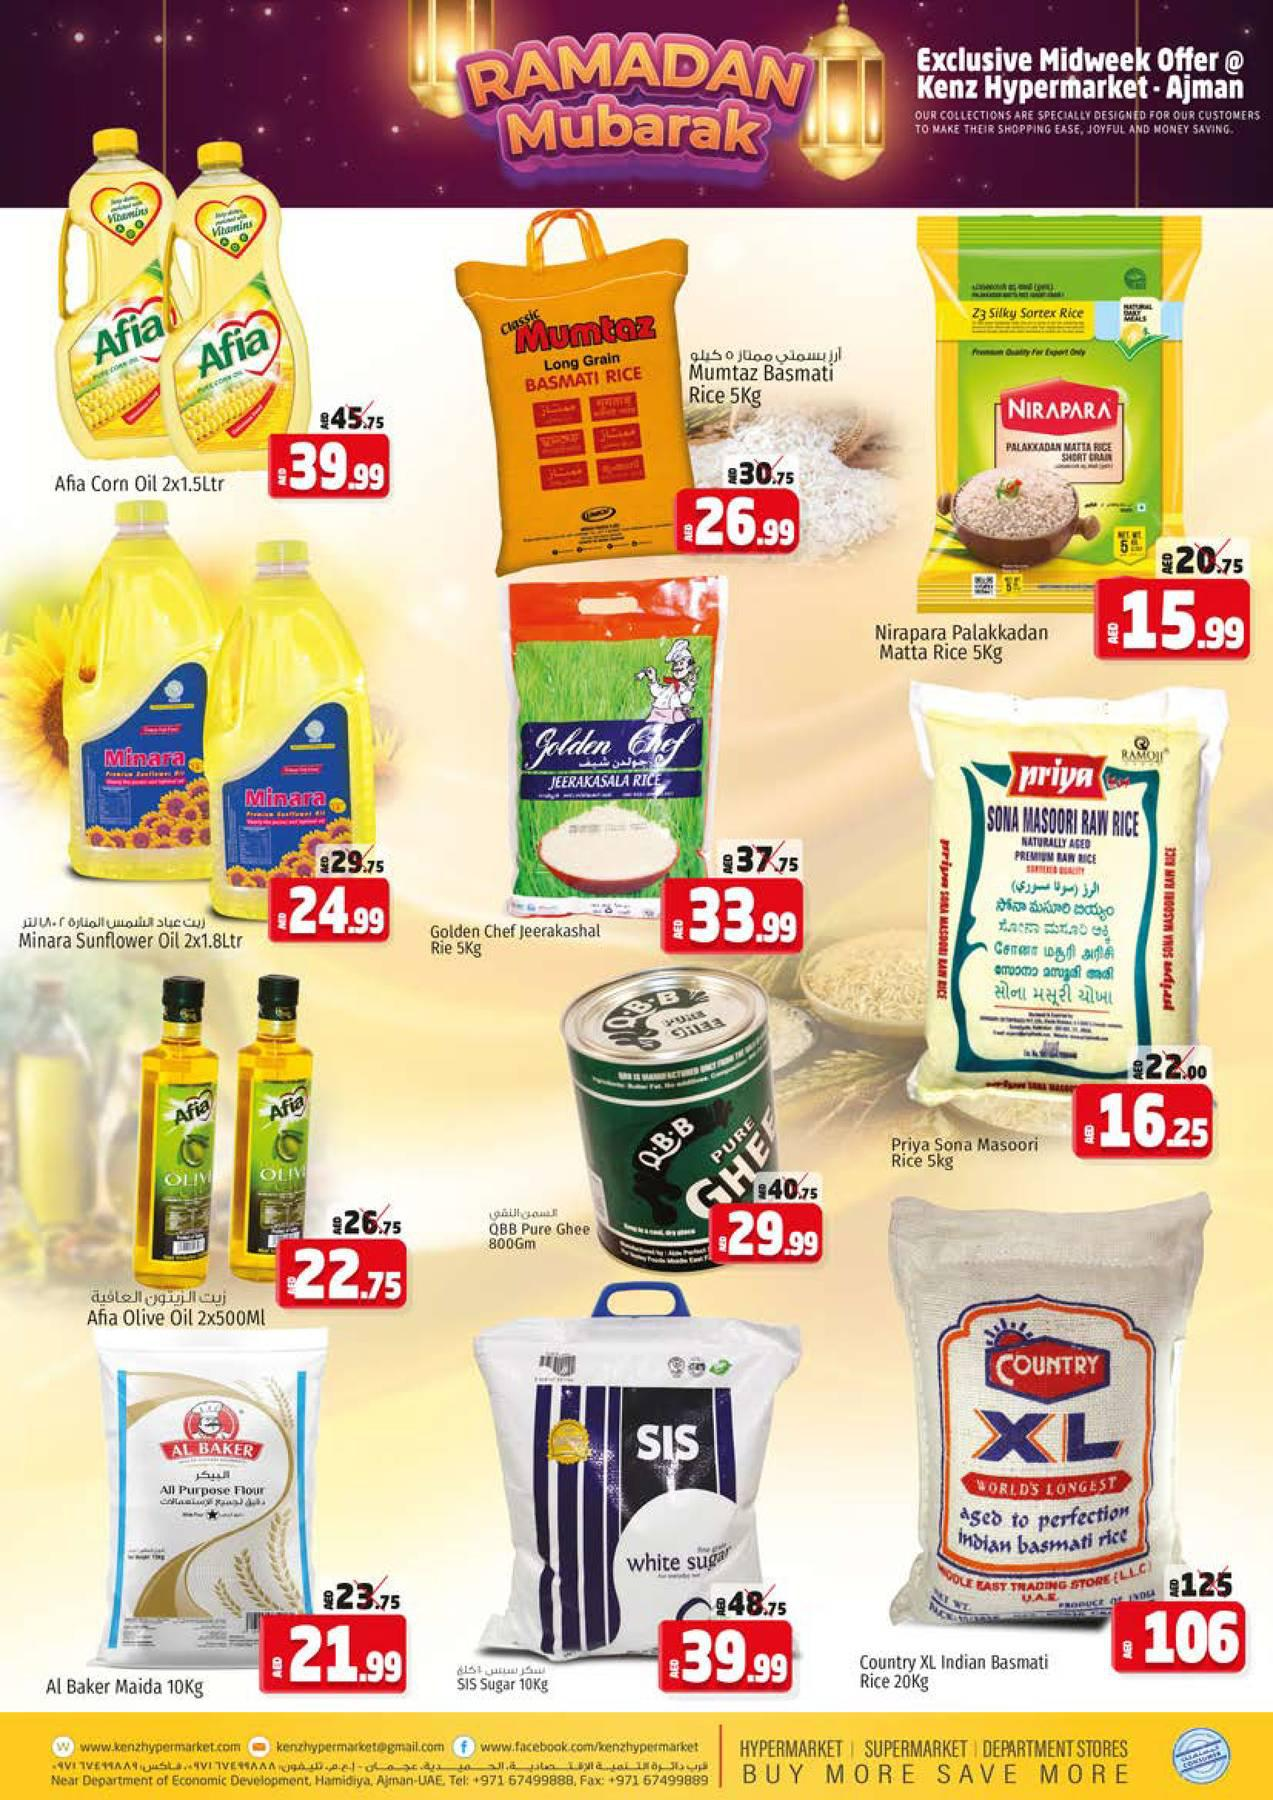text: (675, 331, 856, 419), (11, 906, 249, 964), (854, 1646, 1069, 1706), (457, 1189, 614, 1270), (56, 1285, 282, 1341), (412, 914, 624, 970), (880, 1127, 1048, 1195), (867, 618, 1066, 676), (36, 461, 227, 519), (424, 1655, 579, 1706)
